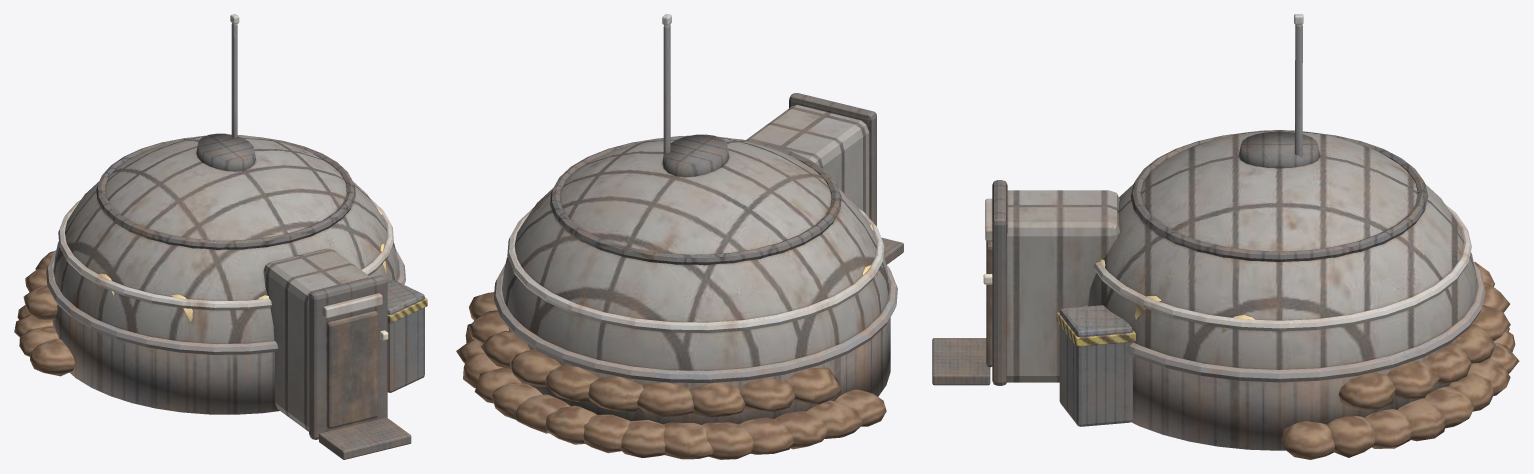
File: house_5.glb
3 renders of one model, left to right at view 1: azimuth 30°, elevation 25°; view 2: azimuth 150°, elevation 25°; view 3: azimuth 270°, elevation 25°, orthographic. The views are drawn at different scales.
Parts seen in each view (by area): view 1: house_5; view 2: house_5; view 3: house_5.
Boxes of the visible parts, x1,y1,x2,y2 form: house_5: [14, 14, 427, 459]; house_5: [456, 14, 903, 459]; house_5: [932, 14, 1519, 459].
Bounding box in the file's own units: 2.47 × 2.09 × 3.05.
1 material, 1 textured.
